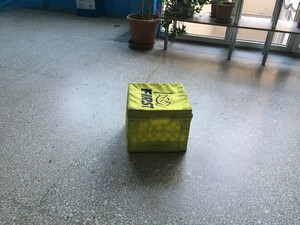cube: (125, 80, 191, 158)
